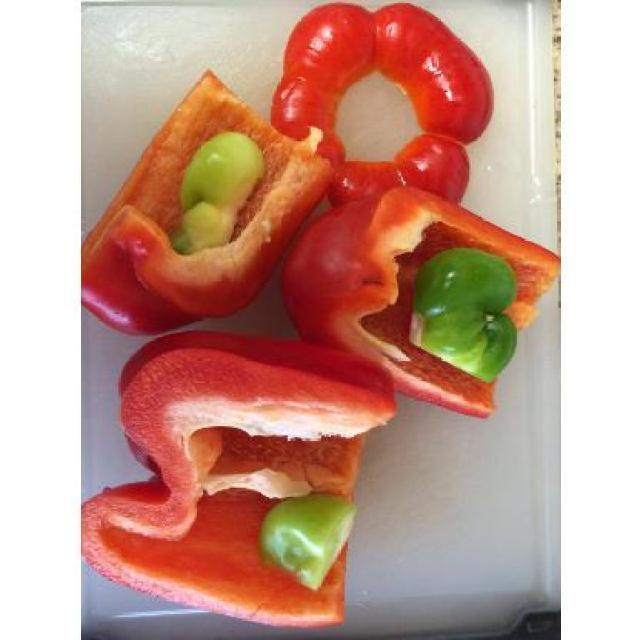Bell Pepper: (81, 333, 392, 627), (79, 70, 330, 333), (279, 184, 558, 416), (270, 3, 493, 203)
